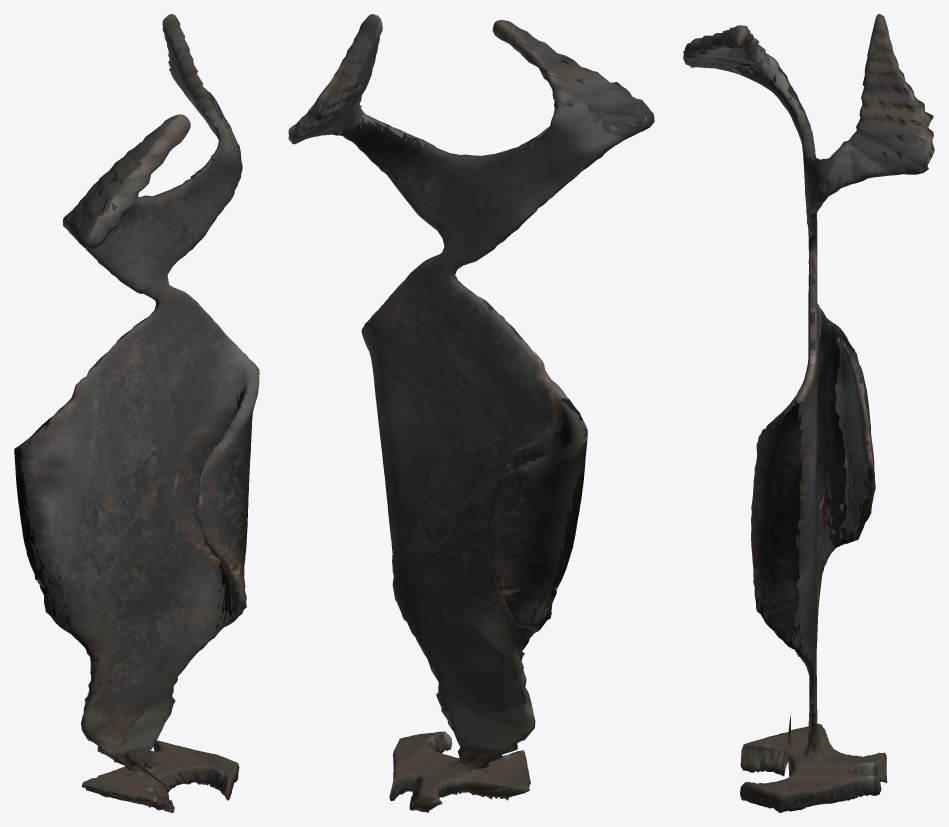
The model's file is hy3d-hierro.glb.
3 renders of one model, left to right at view 1: azimuth 30°, elevation 25°; view 2: azimuth 150°, elevation 25°; view 3: azimuth 270°, elevation 25°, orthographic. The views are drawn at different scales.
Parts seen in each view (by area): view 1: world; view 2: world; view 3: world.
Part boxes in pixels (x1,y1,x2,y2): world: (14,14,259,812); world: (288,14,654,812); world: (683,14,934,812).
Bounding box in the file's own units: 0.4336 × 1.28 × 0.3698.
1 material, 1 textured.
